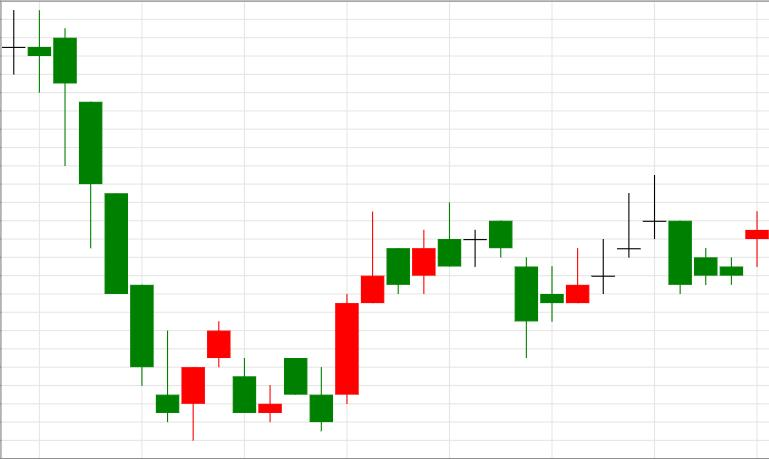inverse_hammer_rise: (2, 10, 179, 422)
